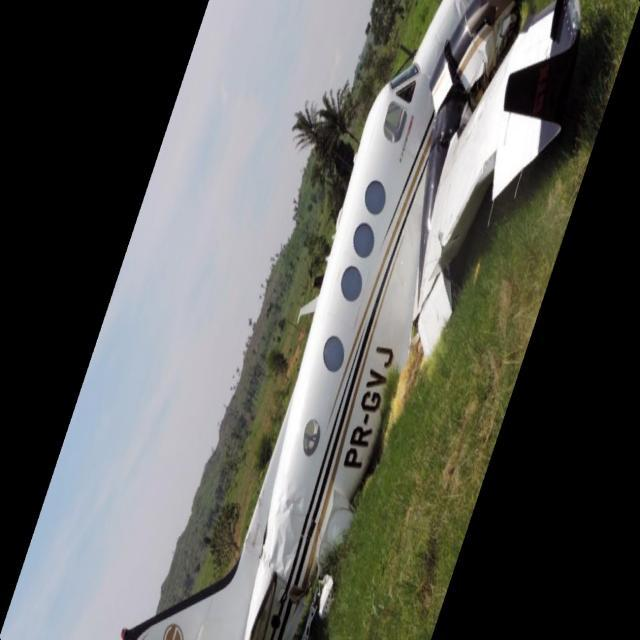dent: (268, 486, 311, 581)
